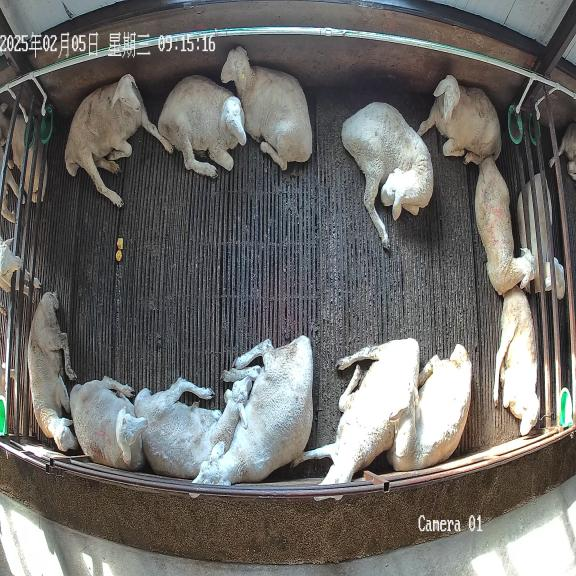lying: (294, 338, 419, 484), (193, 336, 313, 485), (64, 74, 173, 206), (341, 102, 433, 248), (134, 377, 255, 479), (221, 46, 312, 170), (387, 344, 471, 471), (158, 75, 246, 178), (27, 292, 80, 451), (475, 158, 536, 294), (418, 75, 501, 164), (70, 376, 147, 471), (493, 287, 539, 435)
